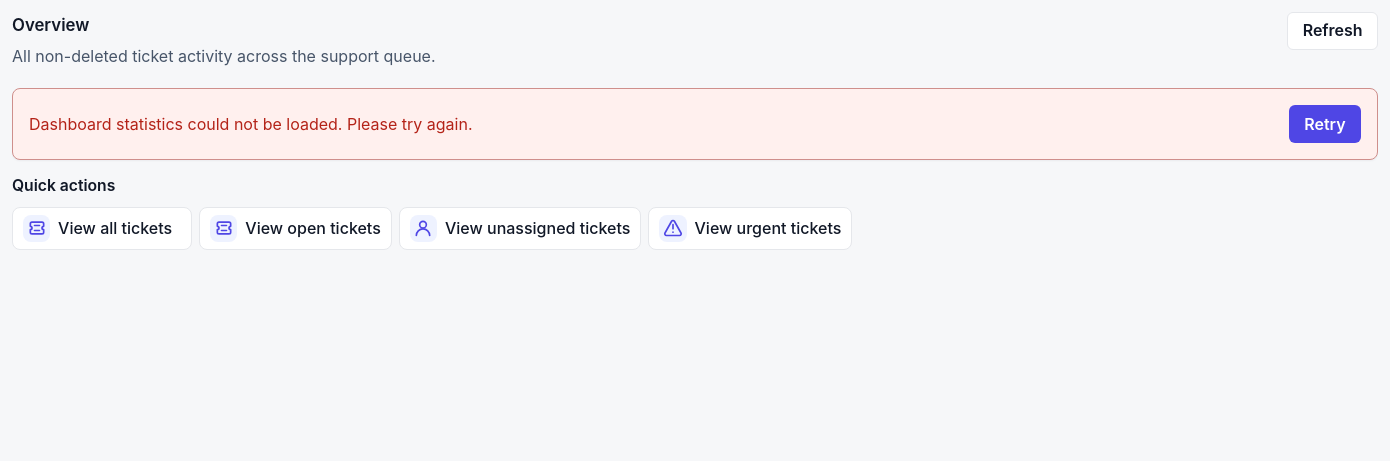
Test case: TicketDashboardPageComponent › retry requests dashboard statistics again
Click the button "Retry" at (1325, 124), box [1289,105,1361,143]
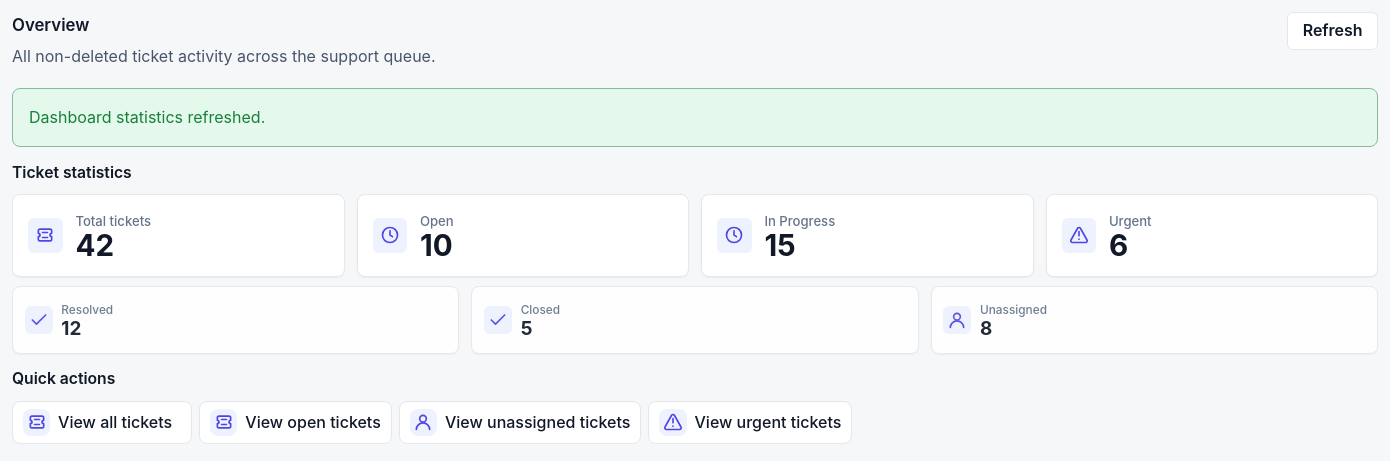
Result: the text "42" is shown at [75,227,114,263]
